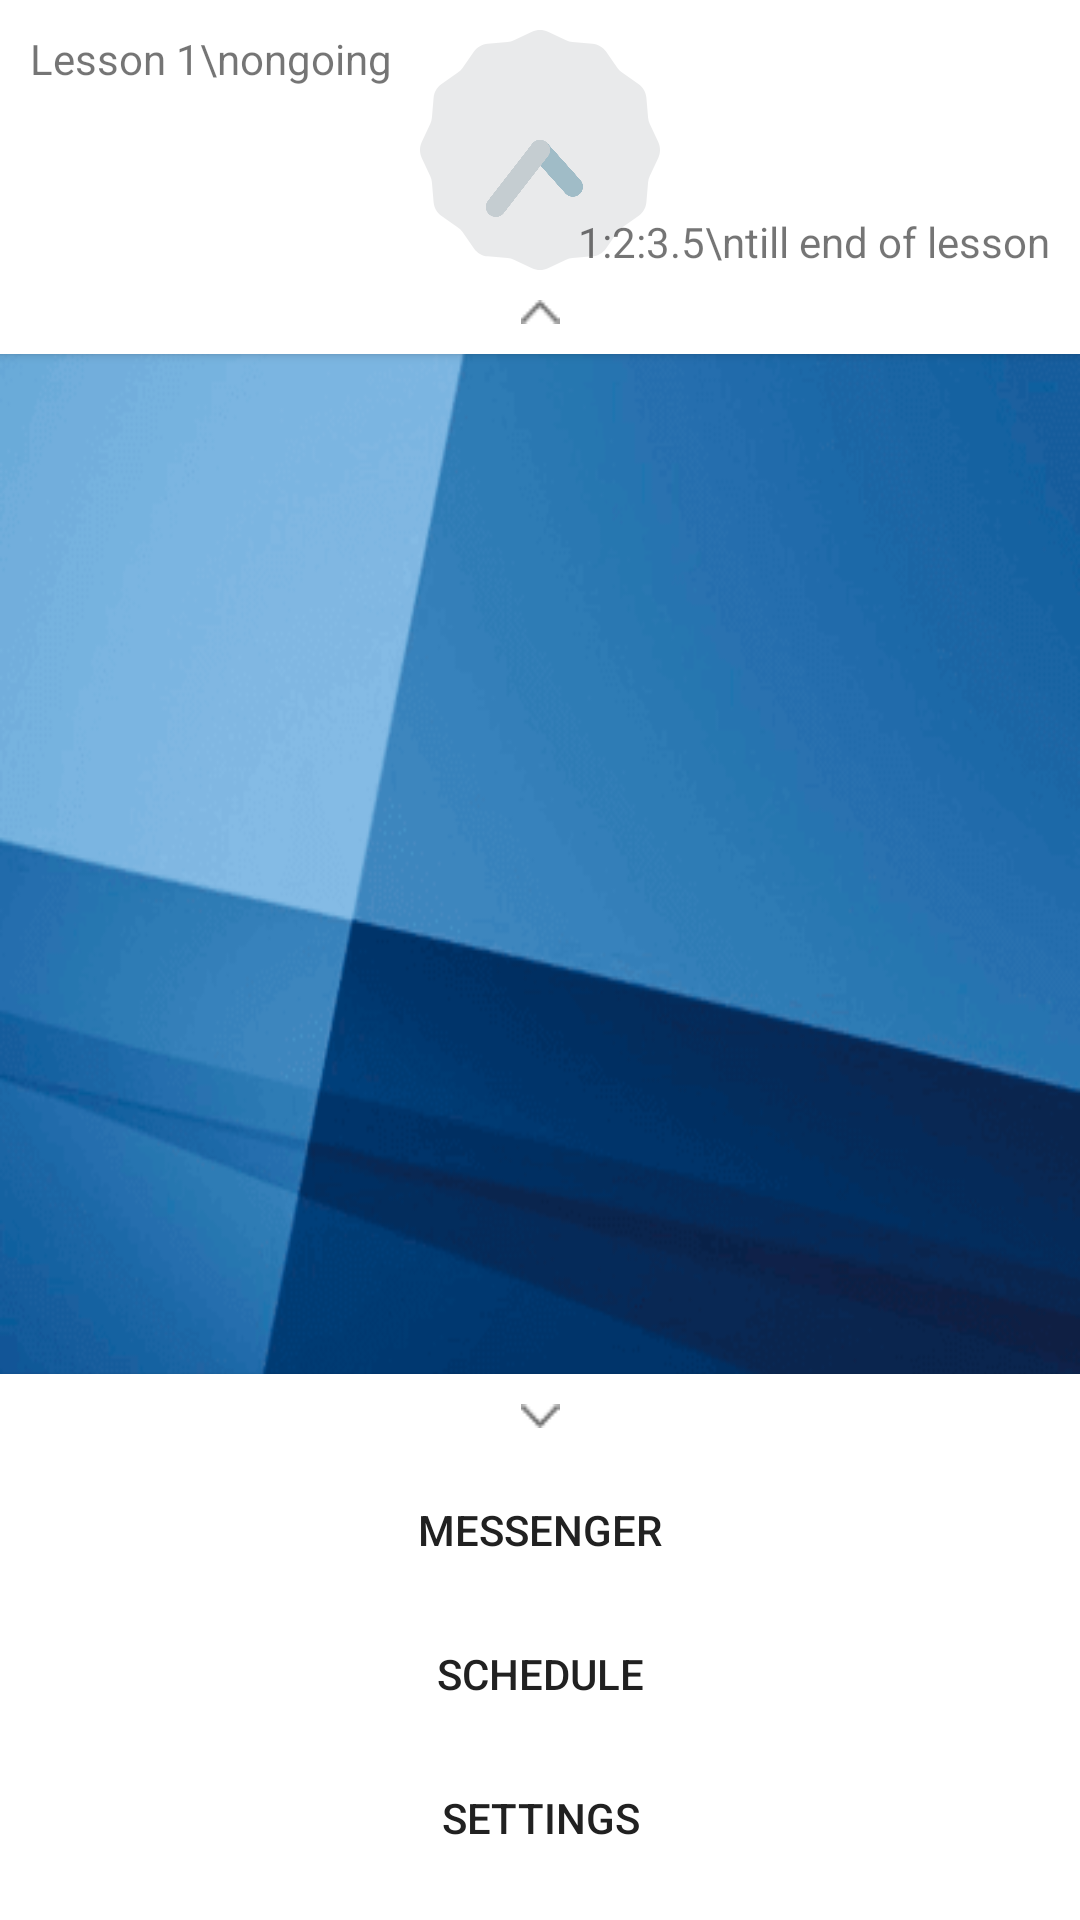

Icons on this 1080px×1920px Android screen, each with the point to tap as [x,y]:
down: [540,1416]
